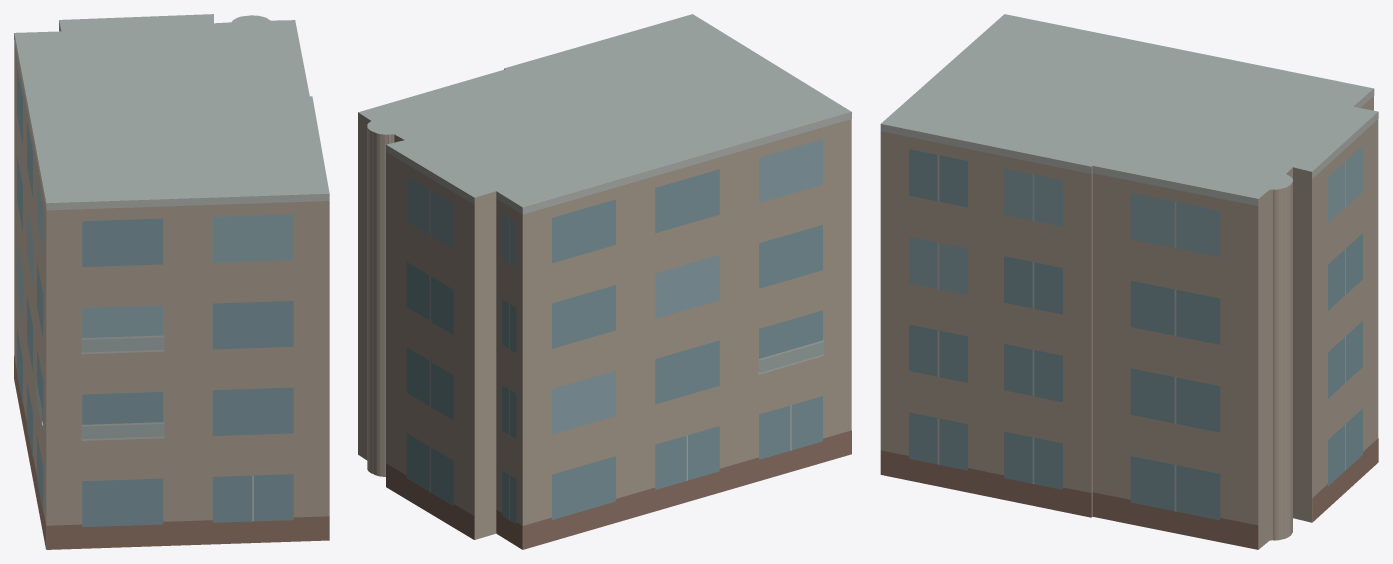
Rendered from survey-upis-32660319.glb.
The picture shows the model from 3 angles, left to right: view 1: azimuth 30°, elevation 25°; view 2: azimuth 150°, elevation 25°; view 3: azimuth 270°, elevation 25°; orthographic projection. The views are drawn at different scales.
Parts seen in each view (by area): view 1: survey-upis-32660319.tmp; view 2: survey-upis-32660319.tmp; view 3: survey-upis-32660319.tmp.
Part boxes in pixels (x1=…): survey-upis-32660319.tmp: x1=14, y1=14, x2=329, y2=549; survey-upis-32660319.tmp: x1=358, y1=14, x2=851, y2=549; survey-upis-32660319.tmp: x1=880, y1=14, x2=1378, y2=549.
Bounding box in the file's own units: 13.29 × 11.75 × 15.11.
